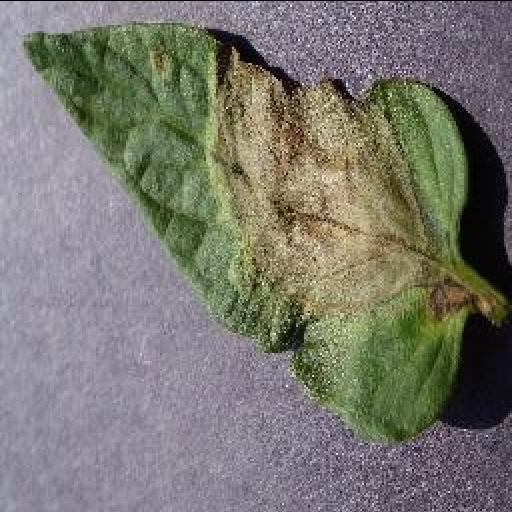disease_tomato: (20, 18, 474, 444)
